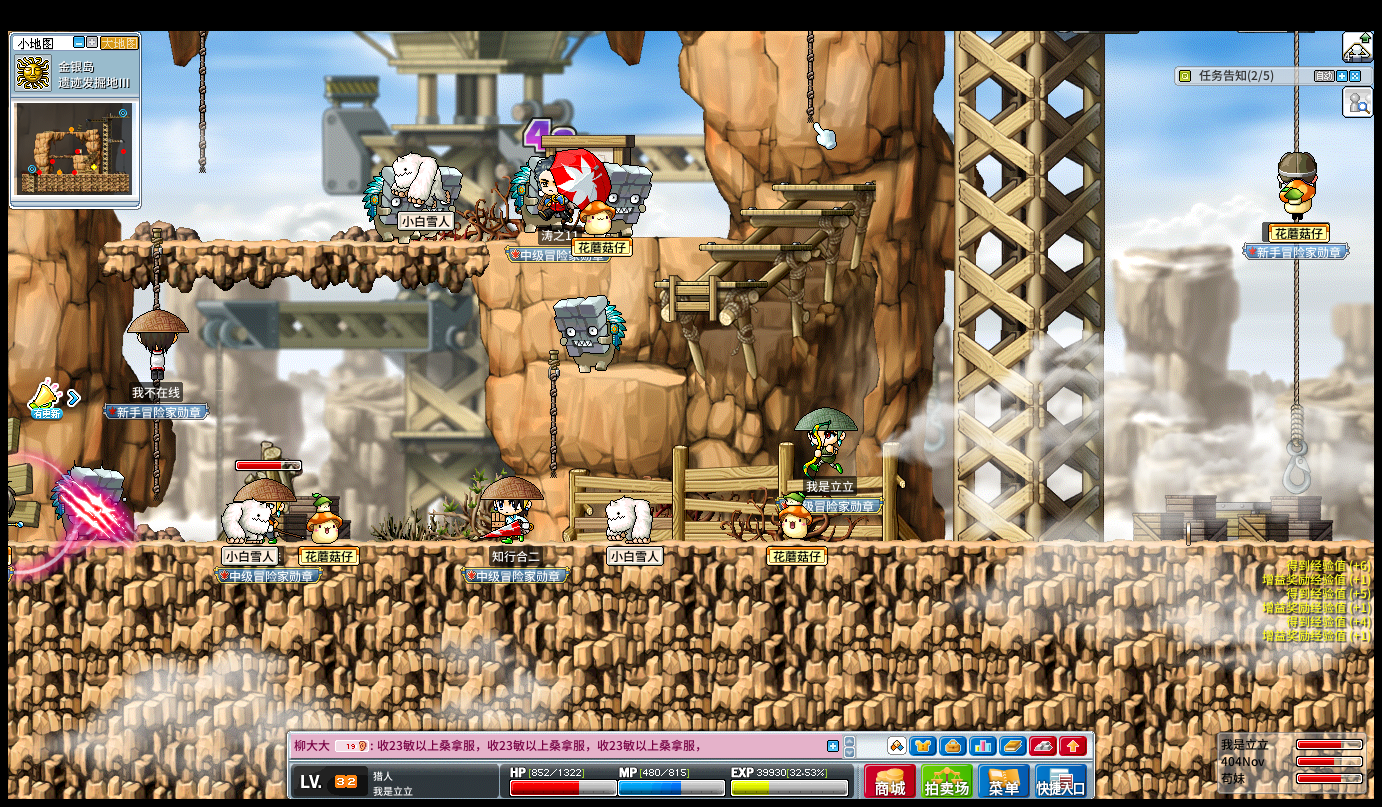floor: (8, 538, 1373, 550), (103, 239, 487, 250), (609, 363, 686, 388), (654, 280, 768, 288), (771, 183, 876, 191), (698, 243, 812, 250), (633, 235, 743, 242), (740, 208, 853, 214)
monster: (553, 296, 627, 373), (51, 466, 125, 541), (605, 162, 653, 236), (363, 166, 394, 242), (510, 156, 540, 234)
rope: (548, 350, 559, 479), (198, 30, 205, 173), (807, 31, 815, 124), (151, 228, 160, 310), (1294, 260, 1299, 405), (151, 422, 160, 501), (1294, 31, 1299, 153), (1291, 405, 1303, 440)
